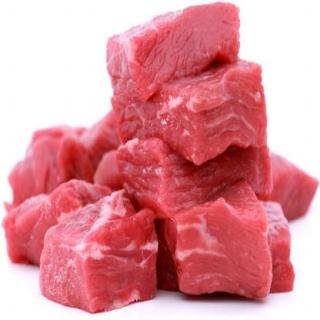Daging Sapi: (121, 64, 283, 160), (106, 9, 244, 106), (47, 190, 156, 311), (119, 141, 284, 211), (175, 196, 271, 299)
